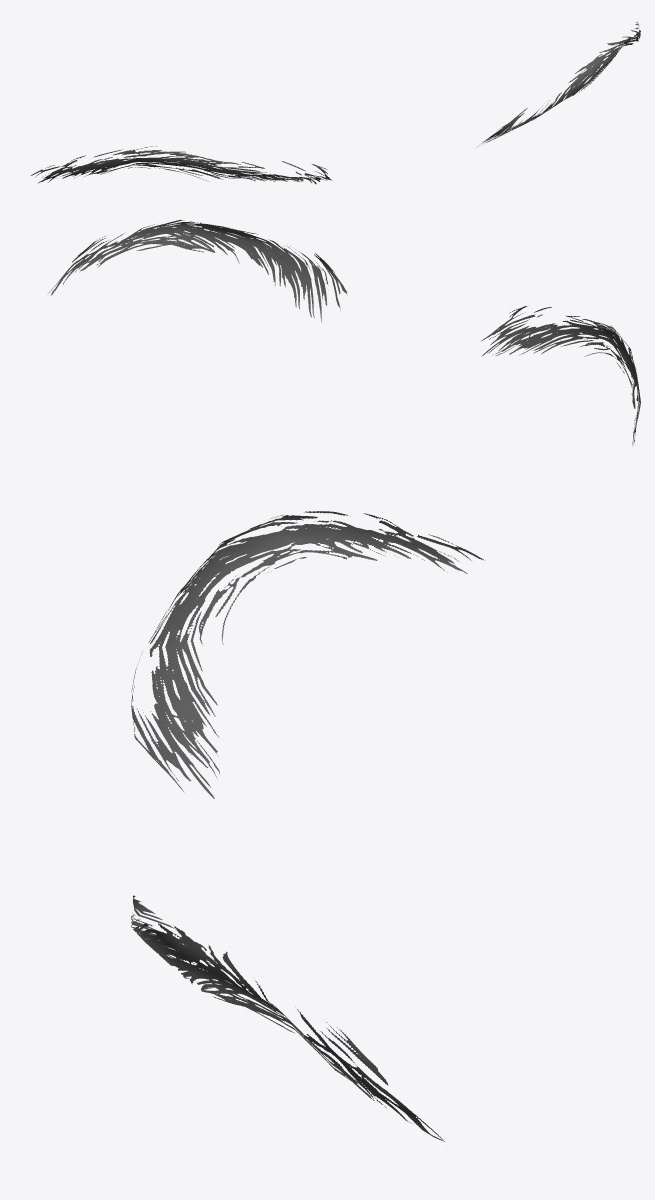
The model's file is brow010.glb.
3 renders of one model, top to bottom at view 1: azimuth 30°, elevation 25°; view 2: azimuth 150°, elevation 25°; view 3: azimuth 270°, elevation 25°, orthographic. The views are drawn at different scales.
Parts seen in each view (by area): view 1: editor_brow010; view 2: editor_brow010; view 3: editor_brow010.
Boxes of the visible parts, bbox=[...] form: editor_brow010: bbox=[30, 22, 640, 184]; editor_brow010: bbox=[47, 220, 640, 446]; editor_brow010: bbox=[131, 511, 484, 1141].
Size of the model in its own units: 0.1069 by 0.0139 by 0.0295.
1 material, 1 textured.
